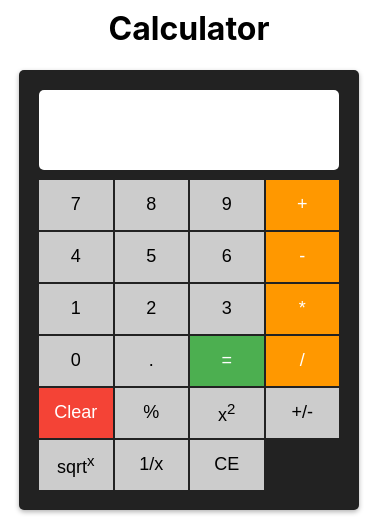
Scenario: negative number
-2 should be -2 displayed
Click the button with test id "number2". click: (151, 309)
box: [114,284,188,334]
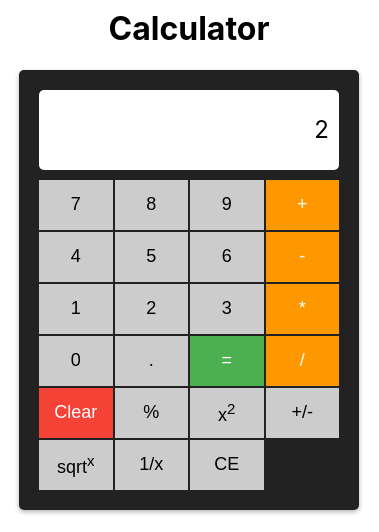
Click the button "+/-". click: (302, 413)
box: [266,388,339,438]
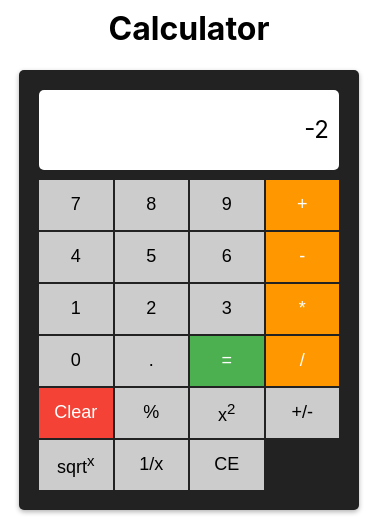
Expected: the text with test id "display" reads "-2", [304,115,329,144]
